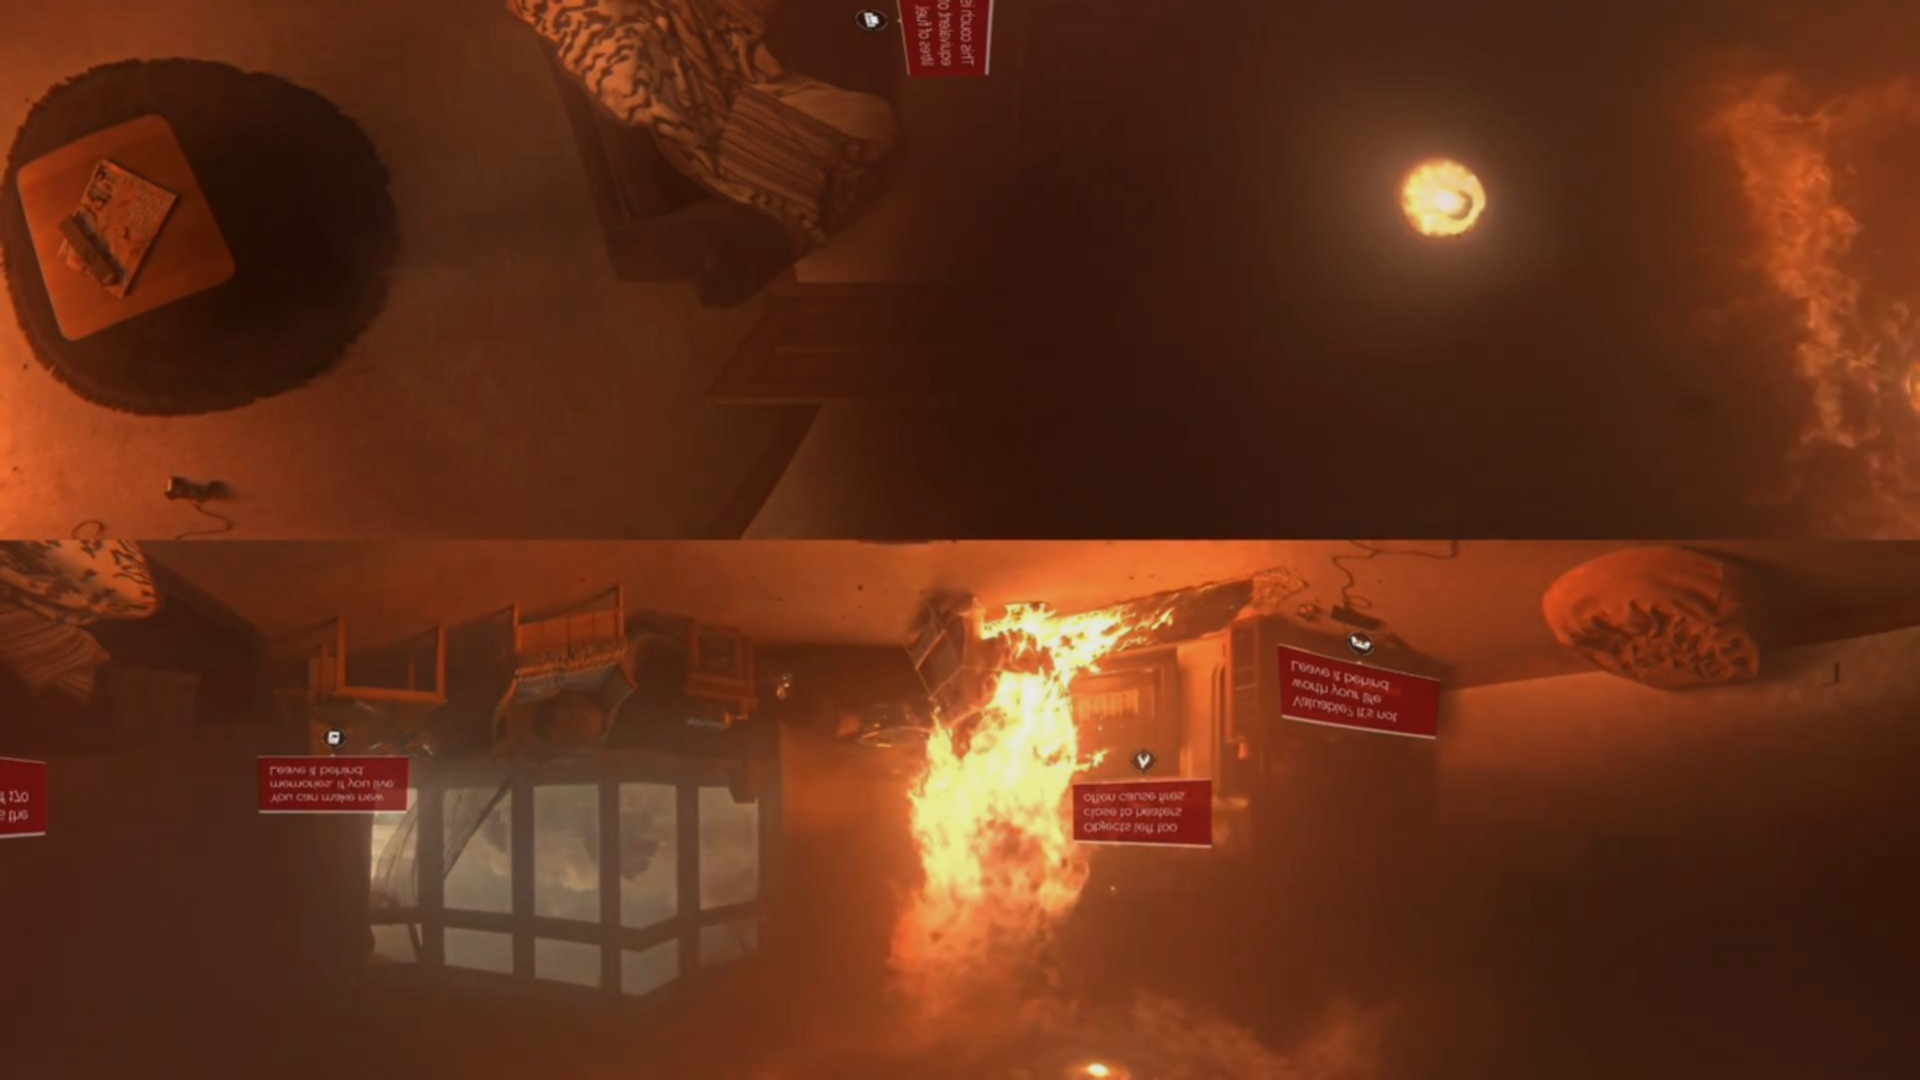fire: (877, 612, 1126, 1025)
